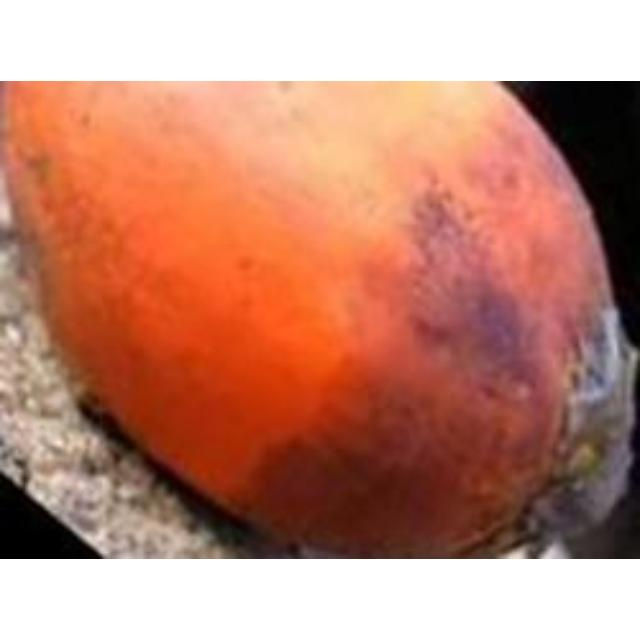good: (0, 81, 637, 557)
